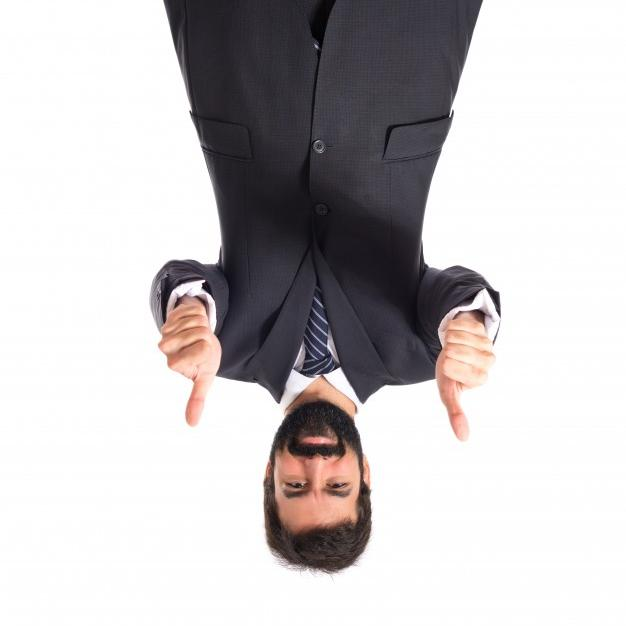thumbsdown: (157, 304, 214, 427), (442, 320, 496, 441)
